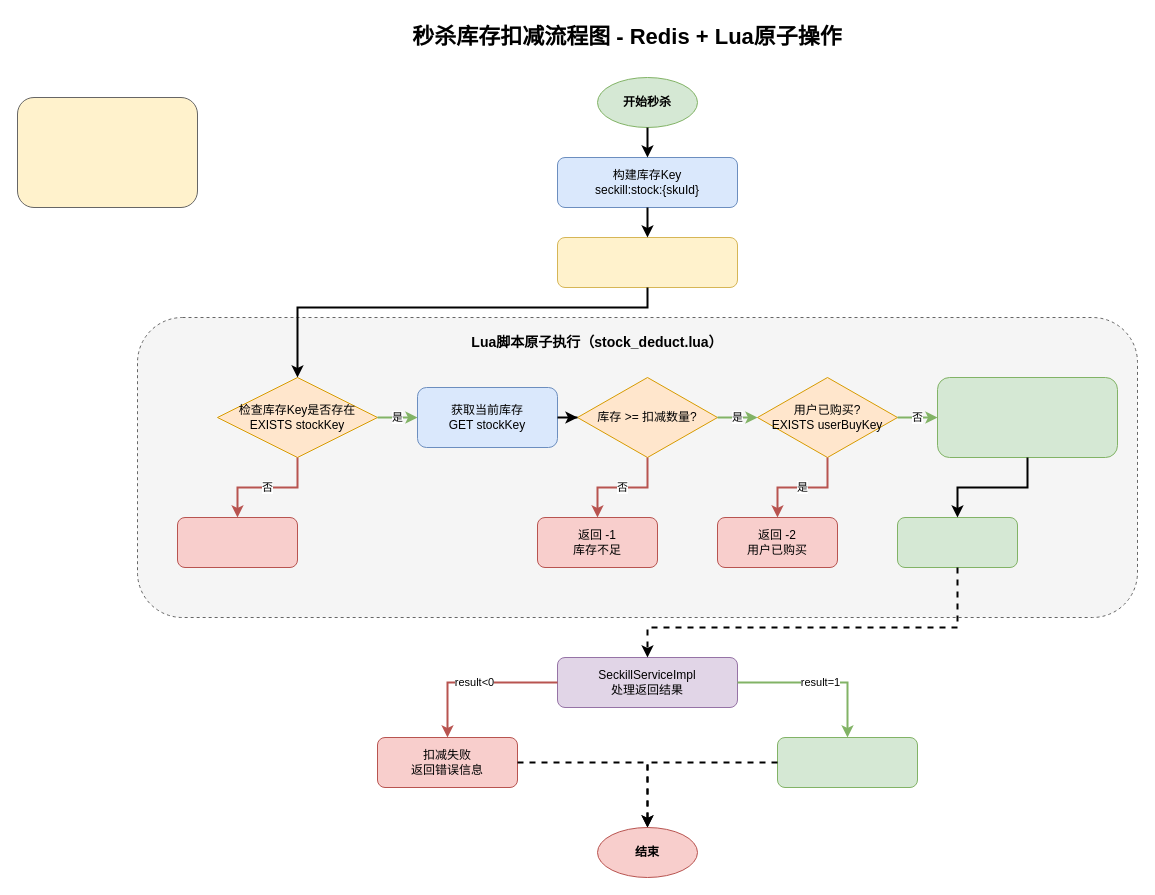
Some shapes in this 1155 by 895 pixel diagram are drawn without their labels. Each missing label, with the box of its shape:
Lua脚本优势： • 原子性：整个操作不可分割 • 防超卖：先检查后扣减 • 防刷单：用户购买记录检查 • 高性能：单线程执行无锁竞争: (16, 96, 198, 208)
扣减库存 + 标记用户 DECRBY stockKey num SETEX userKey 86400 '1': (936, 376, 1118, 458)
扣减成功 继续创建订单: (776, 736, 918, 788)
执行 stock_deduct.lua Lua脚本原子操作: (556, 236, 738, 288)
返回 -3 库存Key不存在: (176, 516, 298, 568)
返回 1 扣减成功: (896, 516, 1018, 568)
